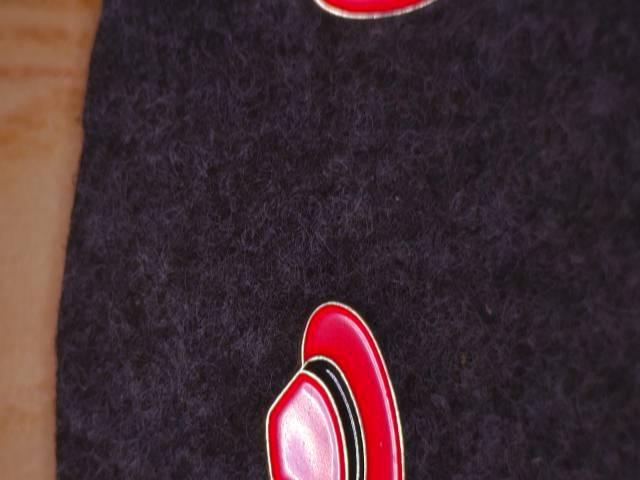Red-Hat: (236, 279, 439, 480)
